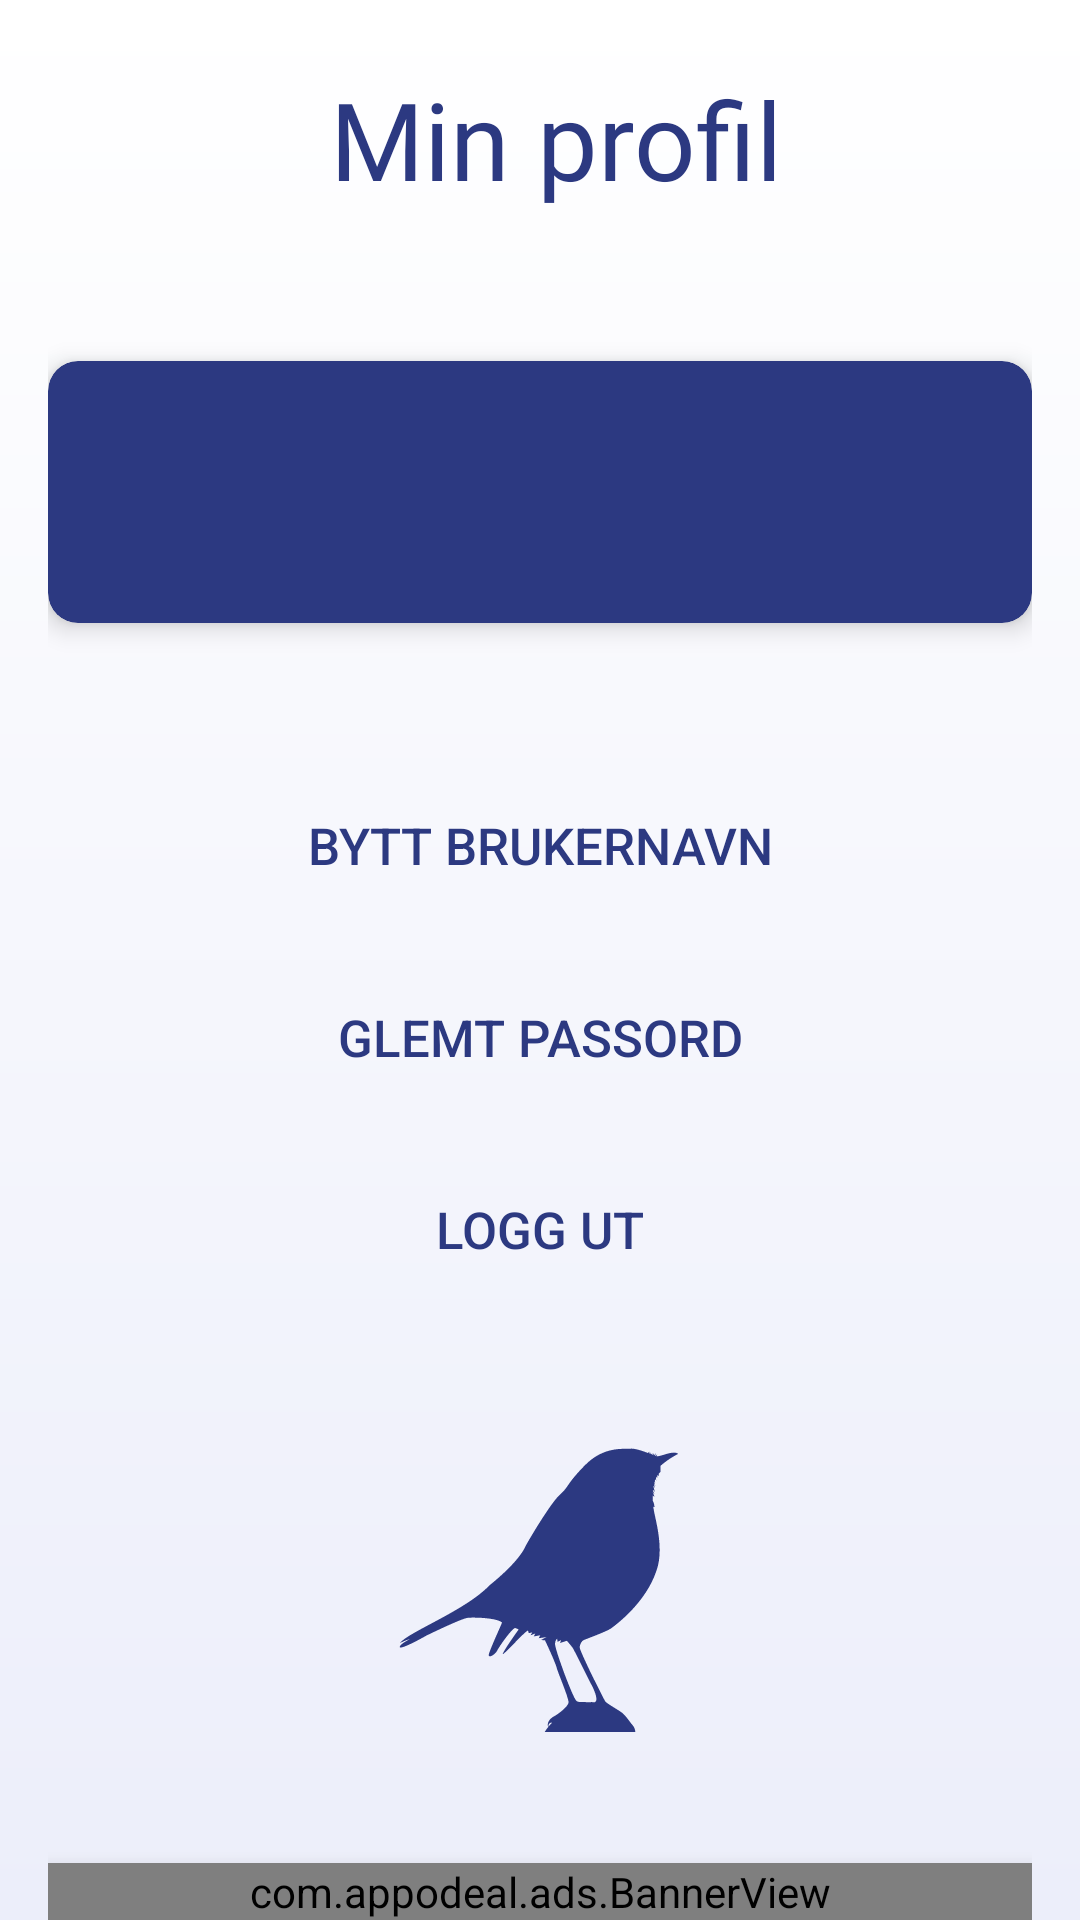

Point at icon controls on the screen. Image size 1080 × 1920, points as (x,y).
Dekorasjonsfugl: (538,1590)
